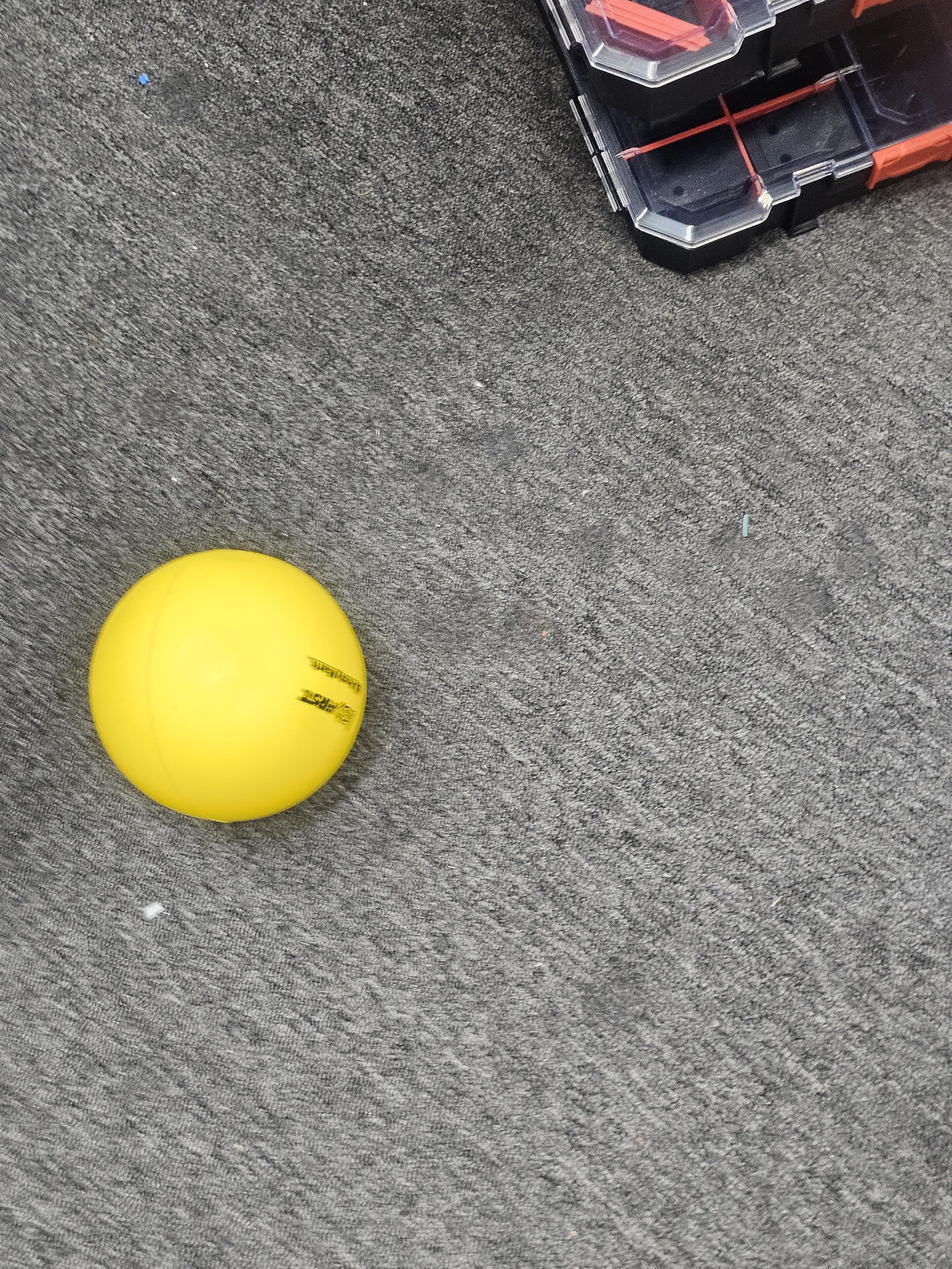fuel: (75, 538, 377, 840)
